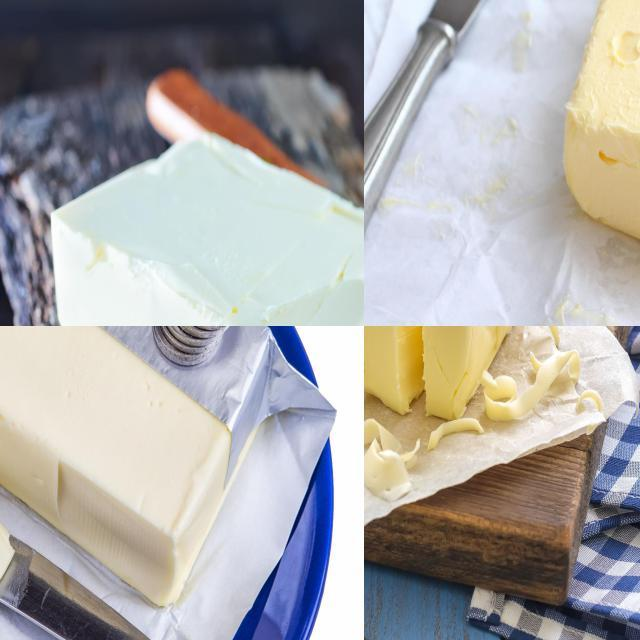Butter: (0, 326, 233, 608), (50, 130, 363, 325), (558, 0, 639, 280)
